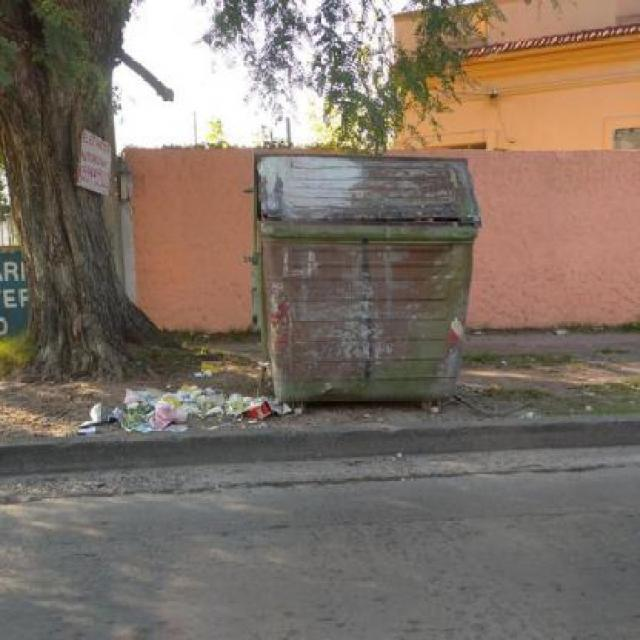garbage: (83, 377, 289, 452), (63, 123, 114, 202), (451, 392, 540, 418), (193, 334, 223, 383), (546, 316, 570, 347)
